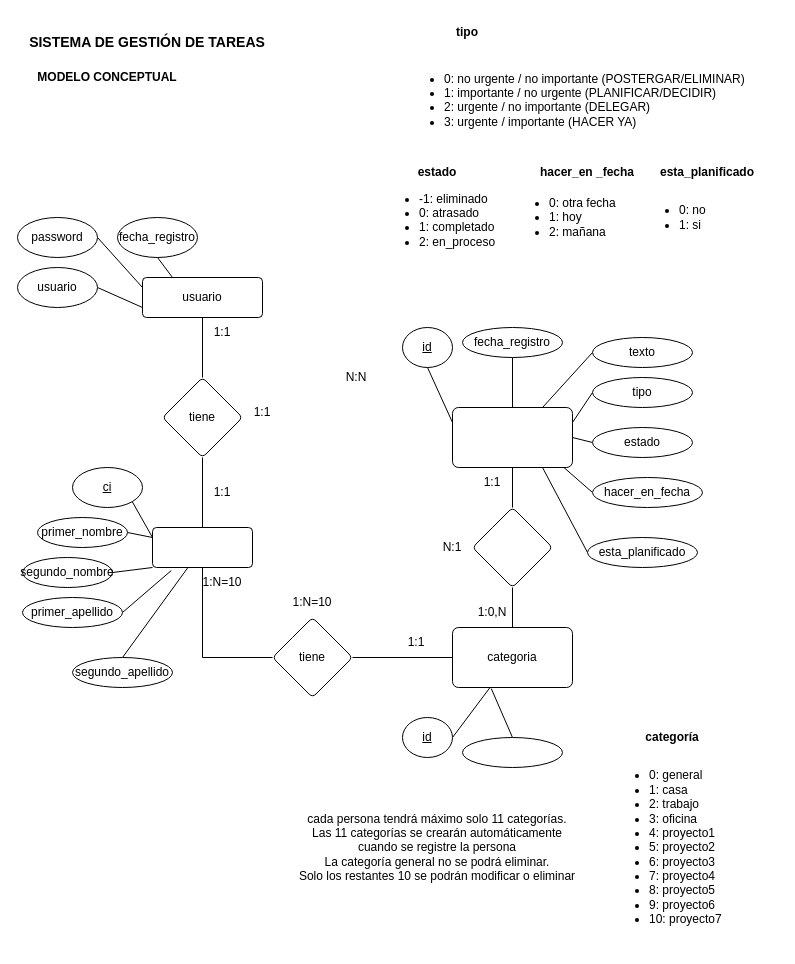
Image size: 795x964. Some labels were removed from this diagram. The centre of each missing label's shape, as x and y in pixels:
nombre: pixel 512 752
persona: pixel 202 547
pertenece: pixel 512 547
tarea: pixel 512 437
